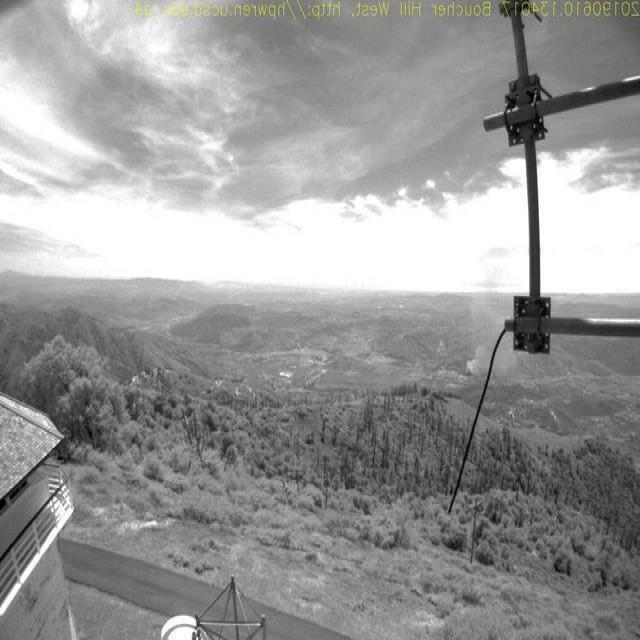Smoke: (463, 254, 521, 380)
